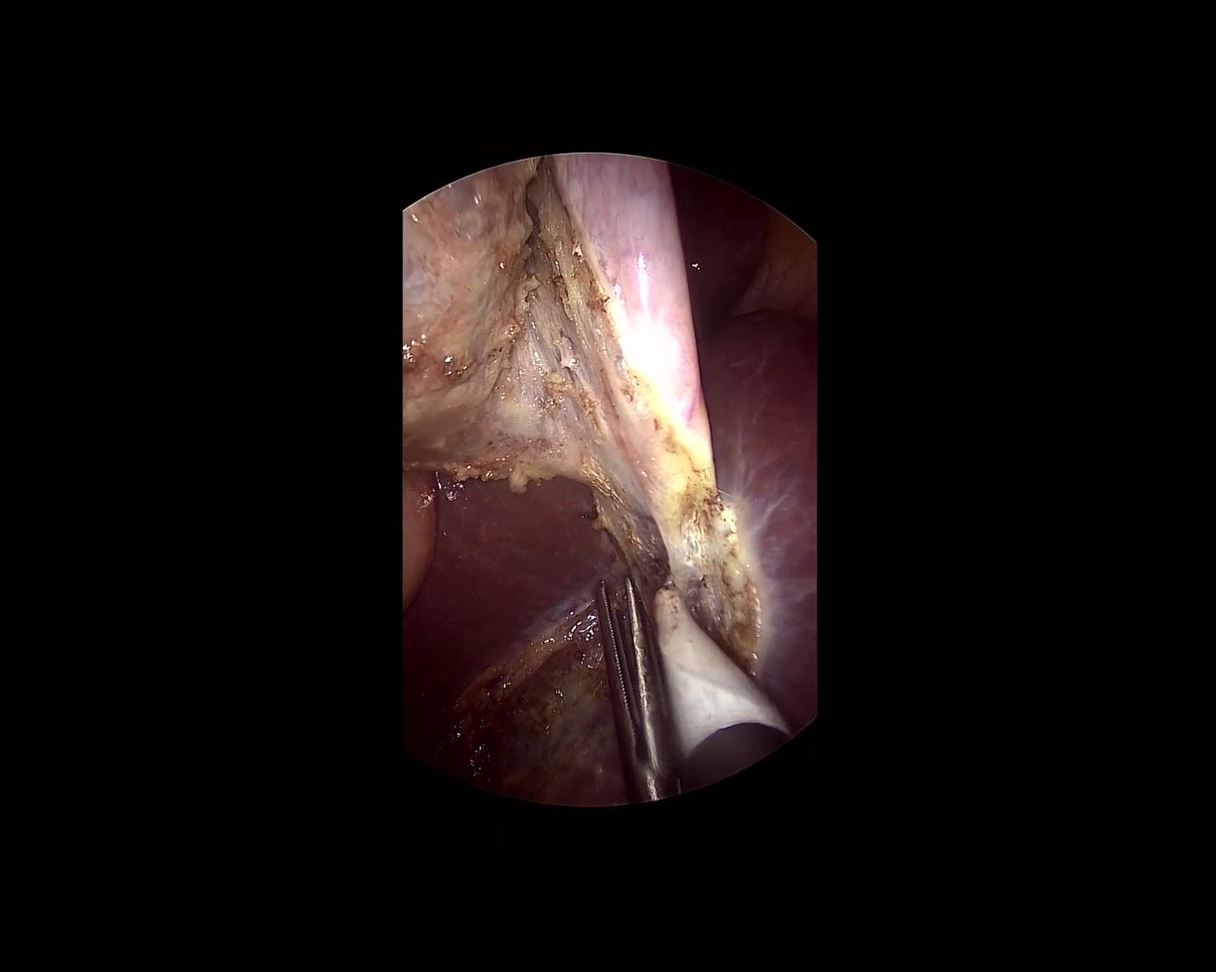Cautery: (588, 566, 793, 799)
Forceps: (588, 572, 682, 805)
Gallbladder: (396, 155, 715, 528)
Liver: (668, 164, 815, 732), (380, 459, 606, 788)
